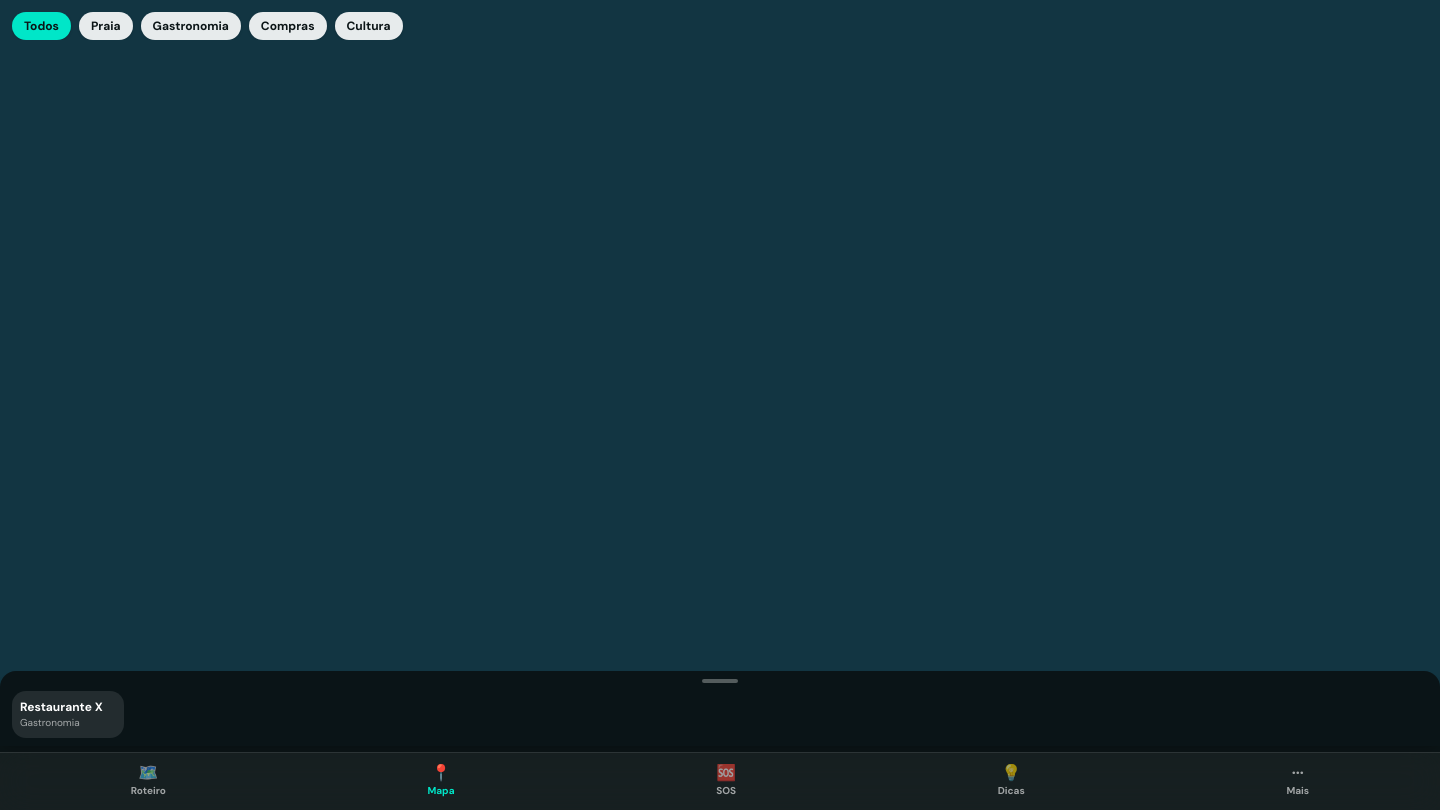
Test: MapaView › opens the modal when a suggestion card in the sheet is clicked
Expected: the text "Restaurante X" is shown, [20,699,116,715]
Step 1. Click the button "Restaurante X Gastronomia" → click(68, 714), box [12,691,124,738]
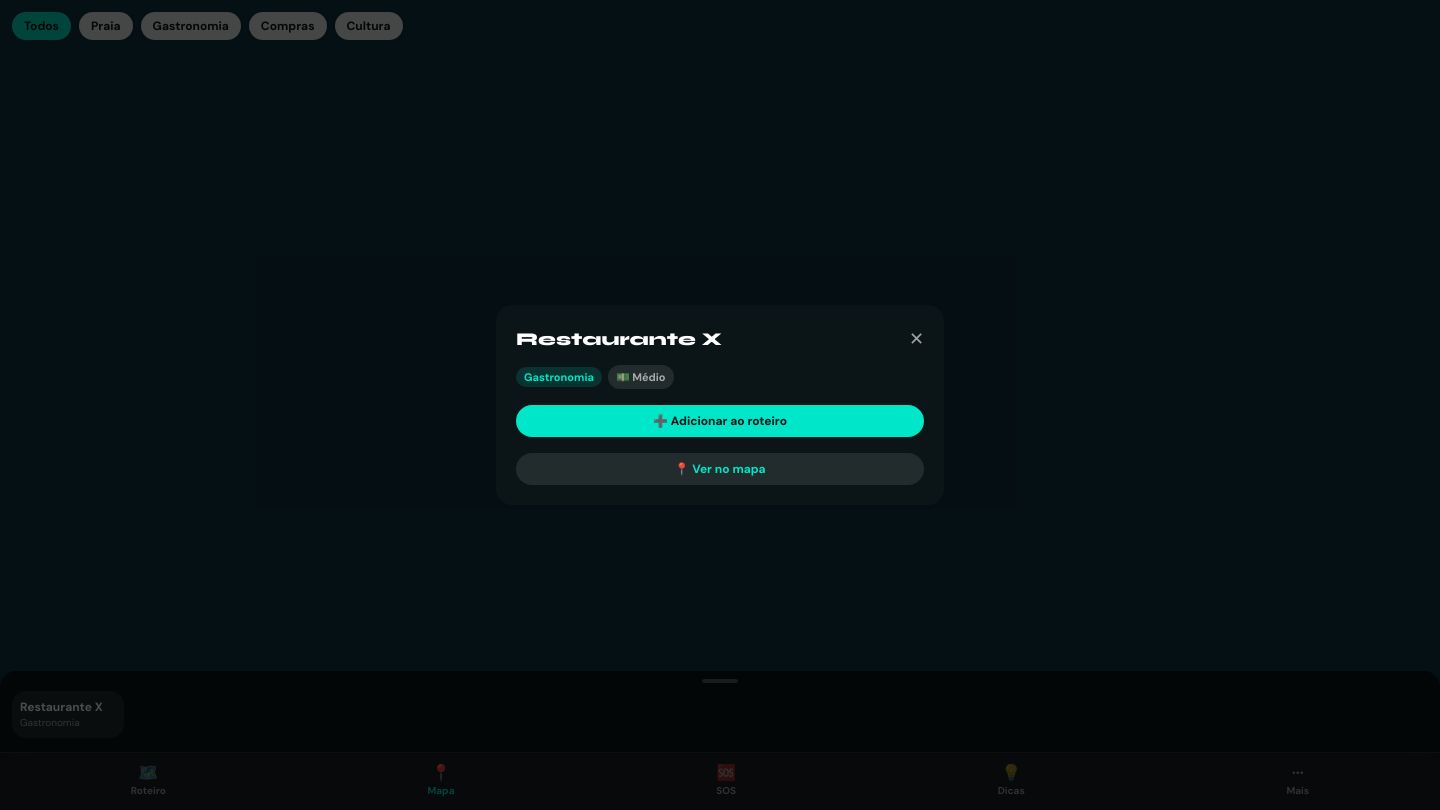
Expected: the dialog "Restaurante X" is shown, [496,305,944,505]
